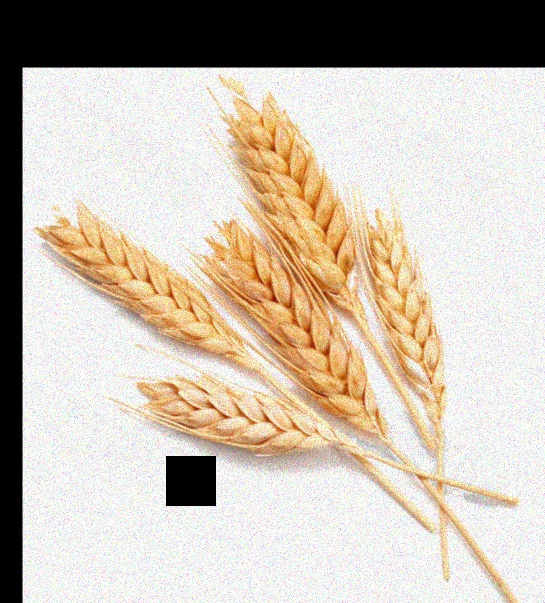wheat: (28, 192, 275, 394), (202, 214, 401, 448), (220, 83, 367, 317), (125, 368, 391, 456), (363, 220, 454, 456)
